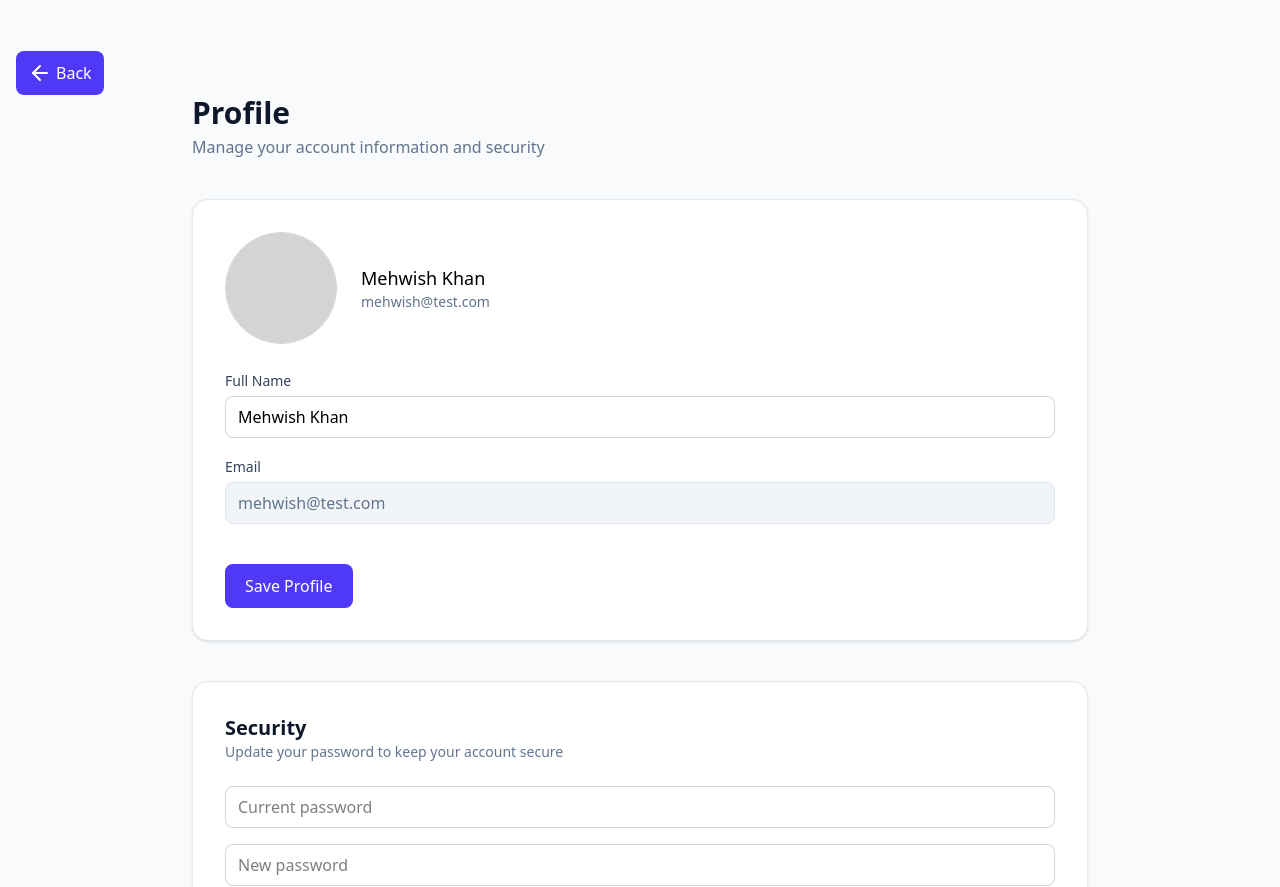
it: Profile Component › updates profile successfully
Expected: the heading "Mehwish Khan" is shown, 361,264 -> 490,292
Replace the text in the field showing "Mehwish Khan" below "Full Name" with "Updated Name". click: (640, 417)
box: 225,396 -> 1055,438
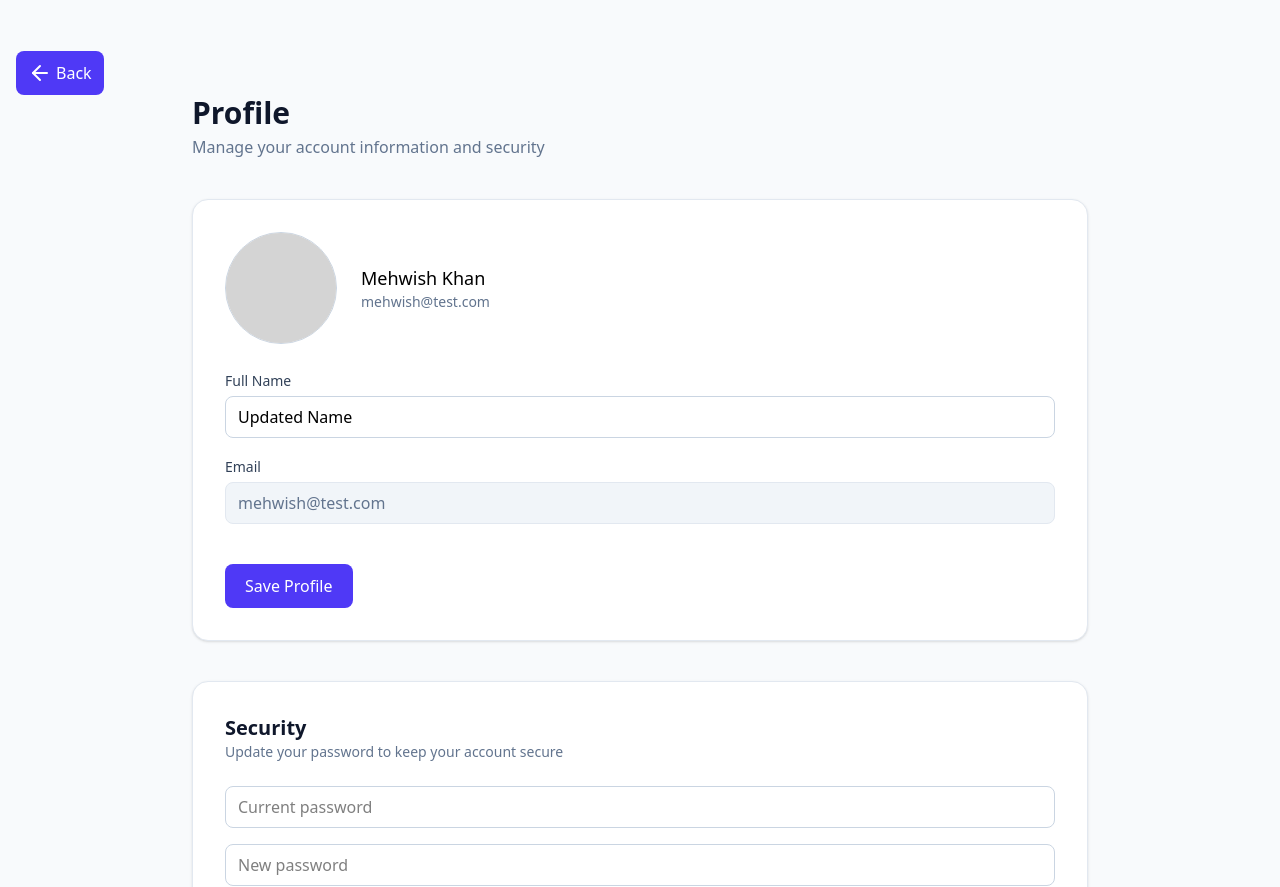
Click the button "Save Profile". click: (289, 586)
box: 225,564 -> 352,608
(page scrolled)
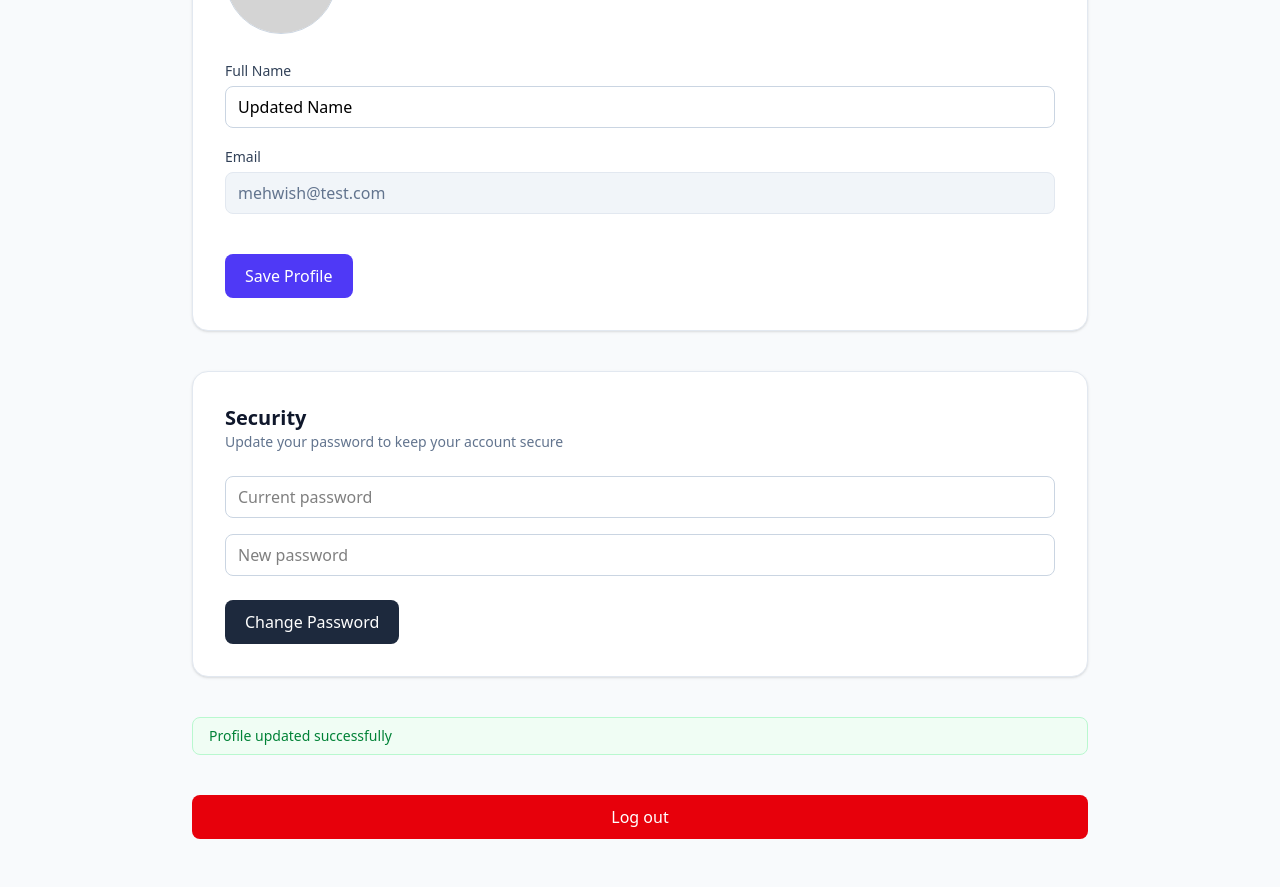
Now the text "Profile updated successfully" is shown, box 192,717 -> 1088,755
